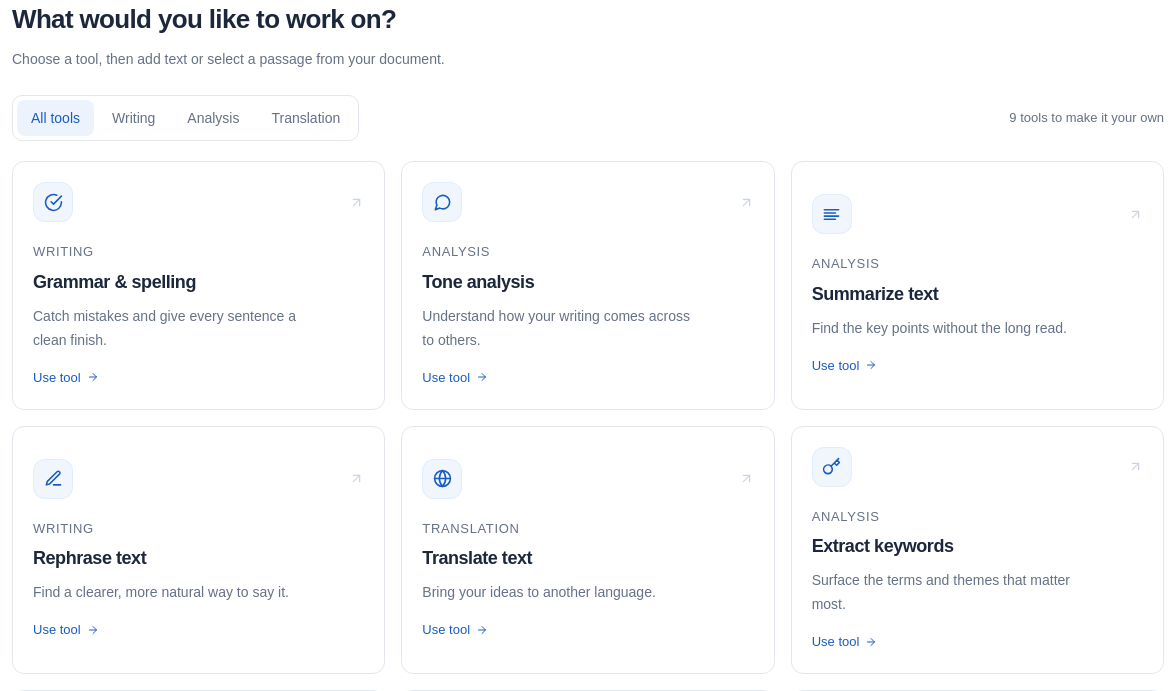
Test: filters tools without navigating away
Click the button "Translation".
click(306, 118)  # box top-left (258, 100), bottom-right (354, 136)
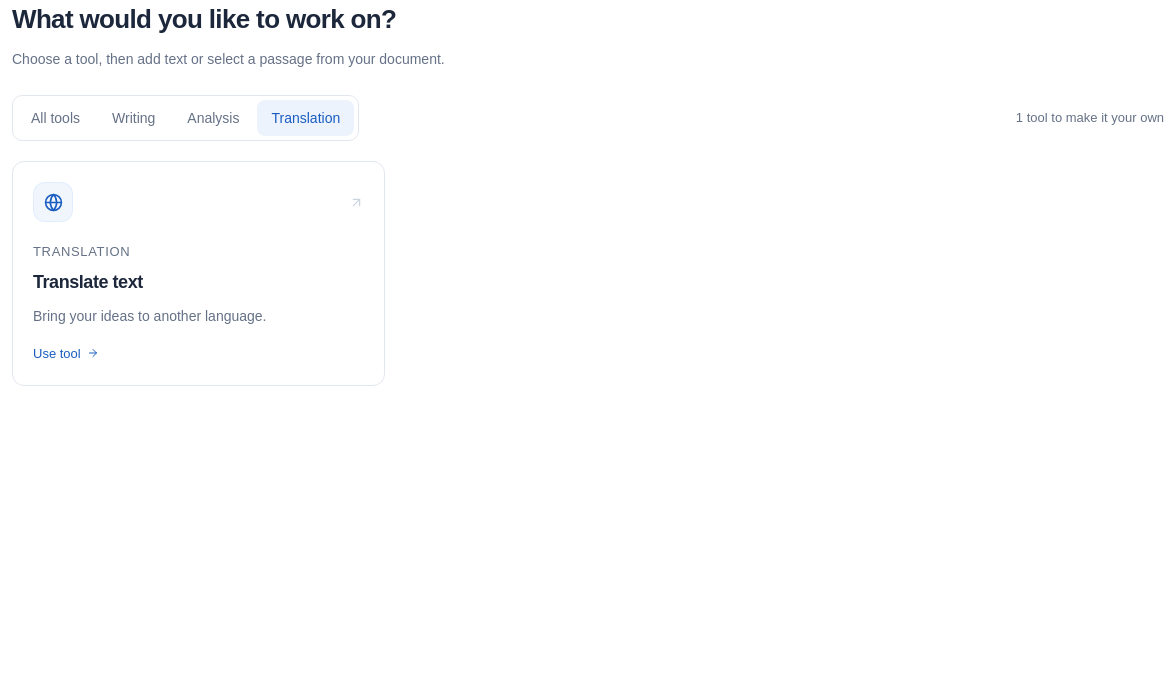
Now the button "Translation" is pressed, box top-left (258, 100), bottom-right (354, 136)
Click the button "All tools".
click(56, 118)  # box top-left (17, 100), bottom-right (94, 136)
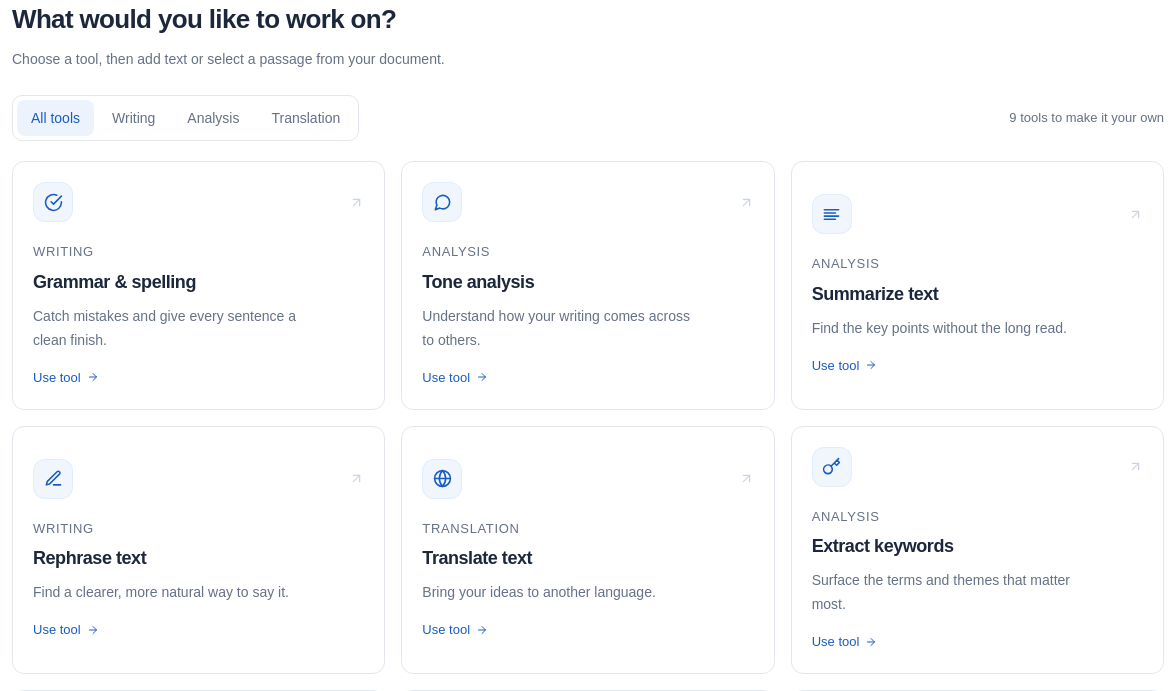
Now the button with aria-label "Grammar and Spelling Check" is shown, box top-left (12, 161), bottom-right (385, 410)
